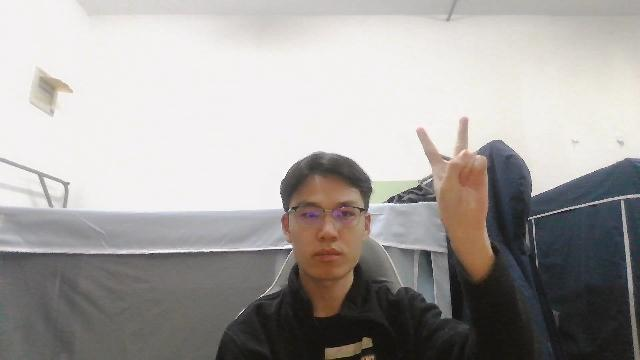yes: (413, 111, 493, 245)
